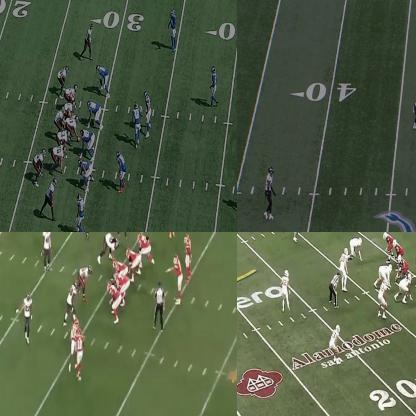CENTER: (68, 115, 80, 144), (395, 255, 407, 282), (113, 260, 127, 276)
DB: (329, 322, 343, 359), (279, 268, 292, 307), (266, 167, 276, 216), (22, 294, 30, 340), (77, 192, 86, 231), (170, 8, 177, 50), (211, 64, 217, 105), (412, 92, 415, 134)
LB: (338, 246, 350, 291), (42, 232, 54, 268), (132, 105, 141, 146), (378, 280, 388, 316), (144, 92, 152, 133), (117, 152, 125, 180), (290, 232, 303, 238)
QB: (171, 255, 183, 302), (54, 108, 64, 132)
SKILL: (183, 233, 193, 278), (46, 178, 56, 219), (75, 330, 83, 380), (82, 26, 94, 58), (34, 150, 45, 181), (68, 321, 74, 365), (55, 148, 65, 172), (58, 68, 69, 88)
